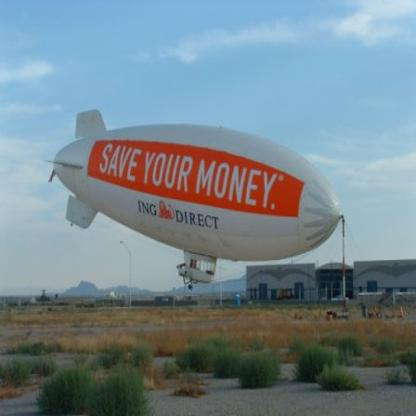Airship: (46, 109, 348, 280)
